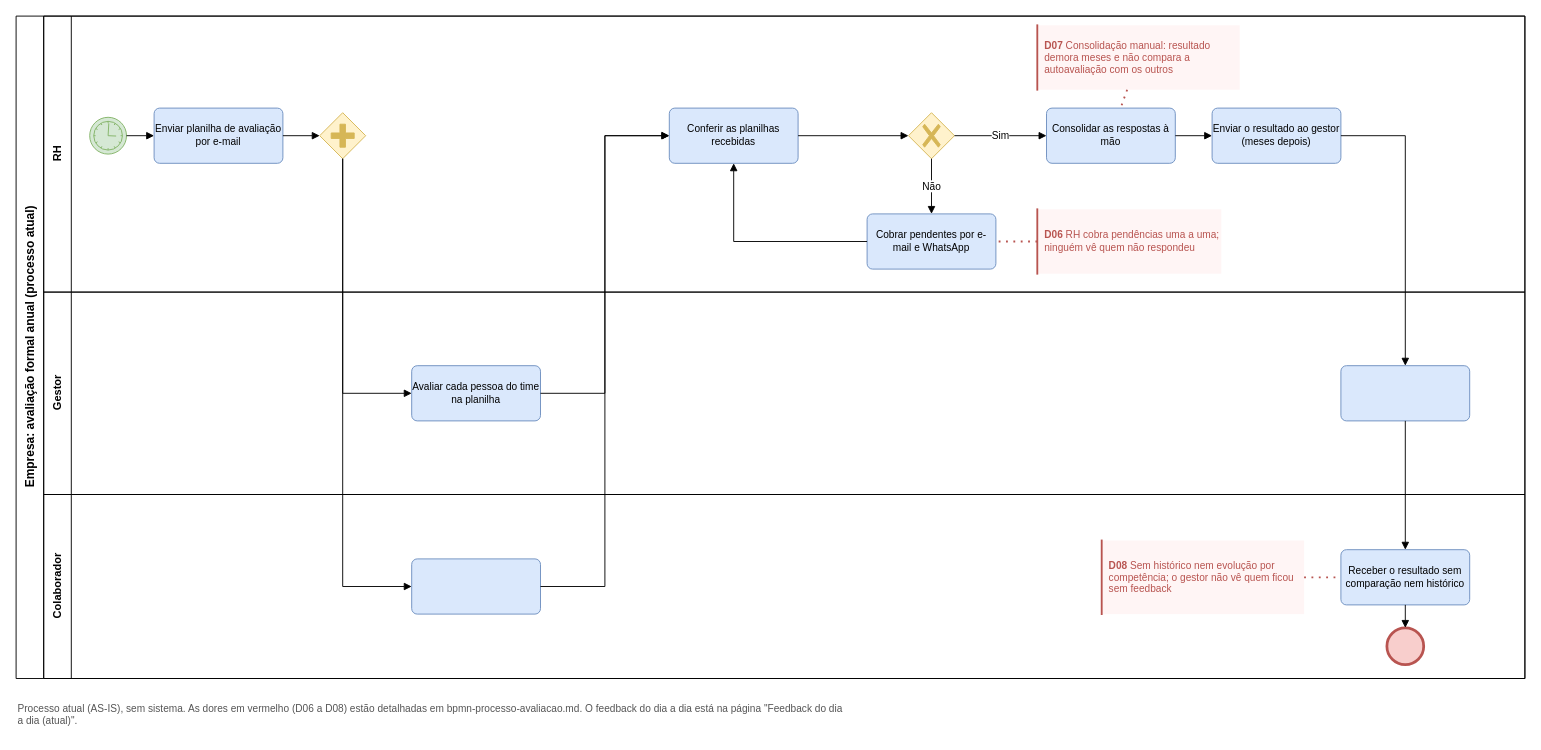
This 1541x750 diagram has some shape labels left out. Here are the shapes that lost their labels. From the top down, the centre of each, then its label:
At pixel 107 135: "Início do ciclo anual".
At pixel 931 135: "Todos responderam?".
At pixel 1405 393: "Repassar o resultado ao colaborador".
At pixel 475 586: "Fazer a autoavaliação e avaliar 2 colegas na planilha".
At pixel 1405 646: "Ciclo encerrado".
